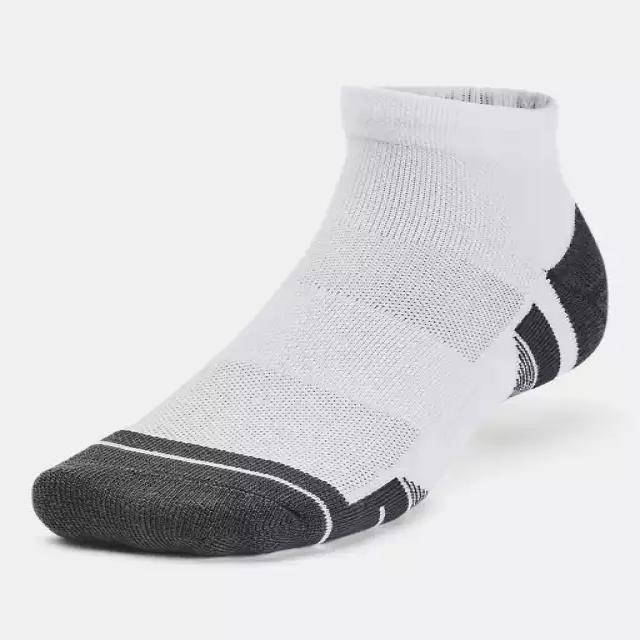sock: (30, 83, 609, 557)
